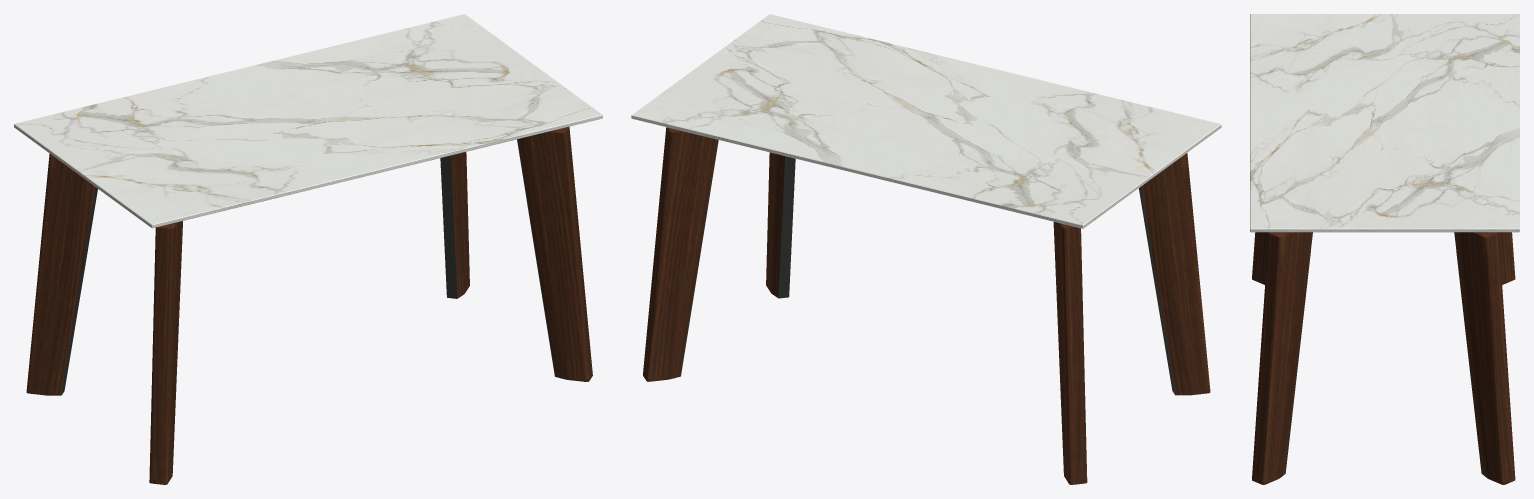
File: BGID02078.glb
The picture shows the model from 3 angles, left to right: view 1: azimuth 30°, elevation 25°; view 2: azimuth 150°, elevation 25°; view 3: azimuth 270°, elevation 25°; orthographic projection. The views are drawn at different scales.
Parts seen in each view (by area): view 1: BP_BGID02078; view 2: BP_BGID02078; view 3: BP_BGID02078.
Boxes of the visible parts, x1,y1,x2,y2 form: BP_BGID02078: (14, 14, 602, 484); BP_BGID02078: (631, 14, 1221, 484); BP_BGID02078: (1250, 14, 1519, 484).
Bounding box in the file's own units: 1.49 × 0.8337 × 0.79.
4 materials, 4 textured.
